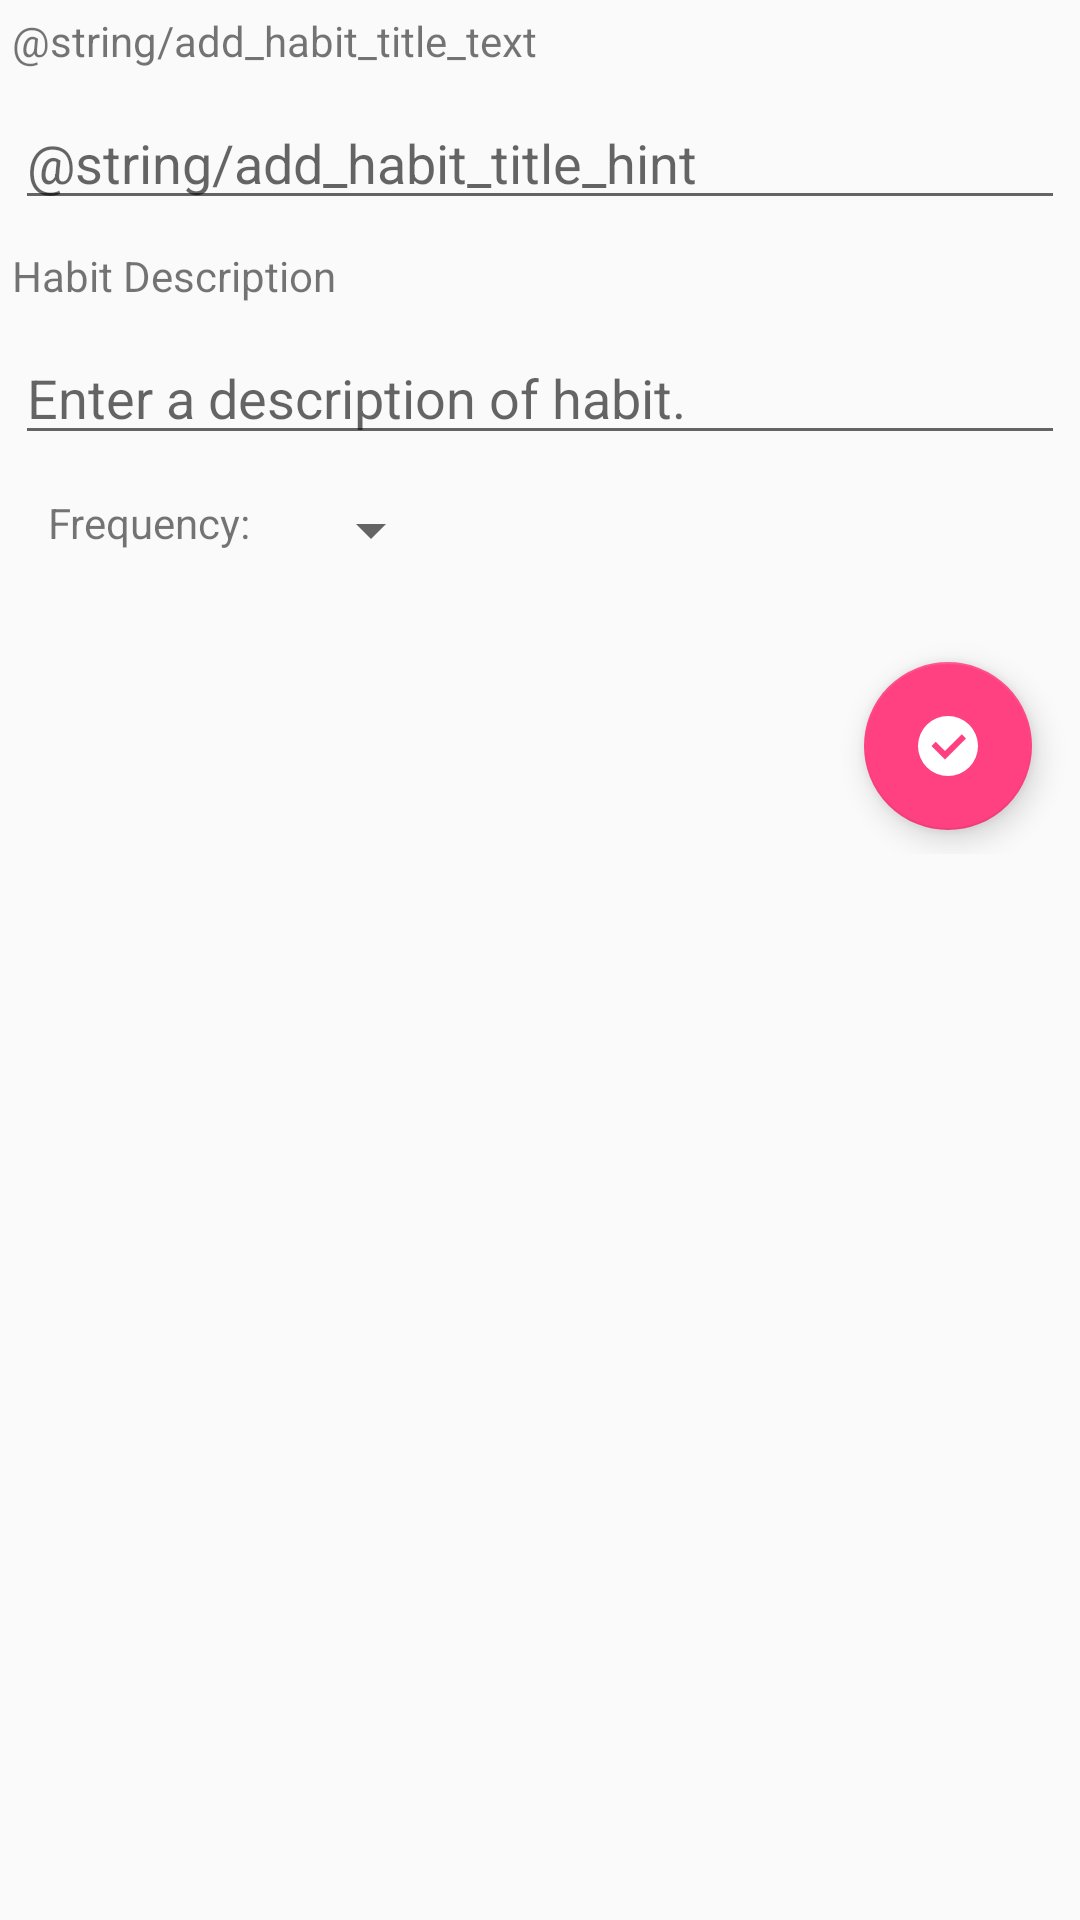

Screen size 1080px×1920px. Icon name, then its center in pixels as (x,y):
check circle: (948,746)
